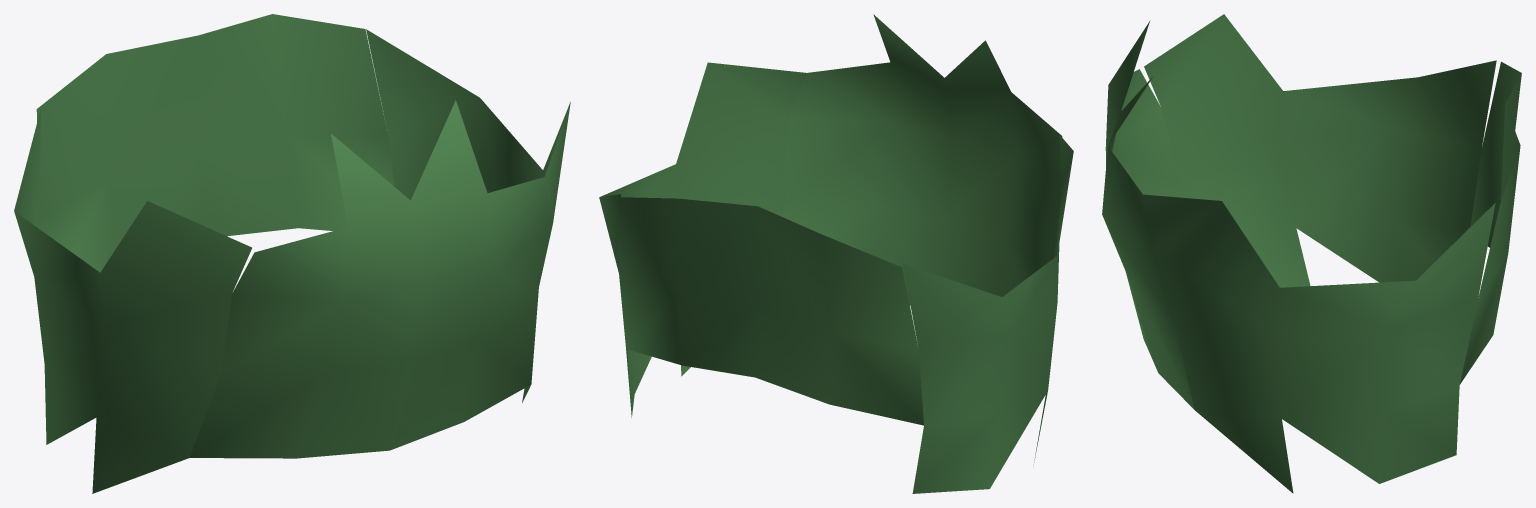
File: spine1.glb
The picture shows the model from 3 angles, left to right: view 1: azimuth 30°, elevation 25°; view 2: azimuth 150°, elevation 25°; view 3: azimuth 270°, elevation 25°; orthographic projection. The views are drawn at different scales.
Visible parts, largest first — view 1: polo-green_SPINE1; view 2: polo-green_SPINE1; view 3: polo-green_SPINE1.
Boxes of the visible parts, x1,y1,x2,y2 form: polo-green_SPINE1: (14, 14, 570, 493); polo-green_SPINE1: (599, 14, 1073, 493); polo-green_SPINE1: (1102, 14, 1521, 493).
Bounding box in the file's own units: 0.3731 × 0.3036 × 0.3246.
1 material, 1 textured.
